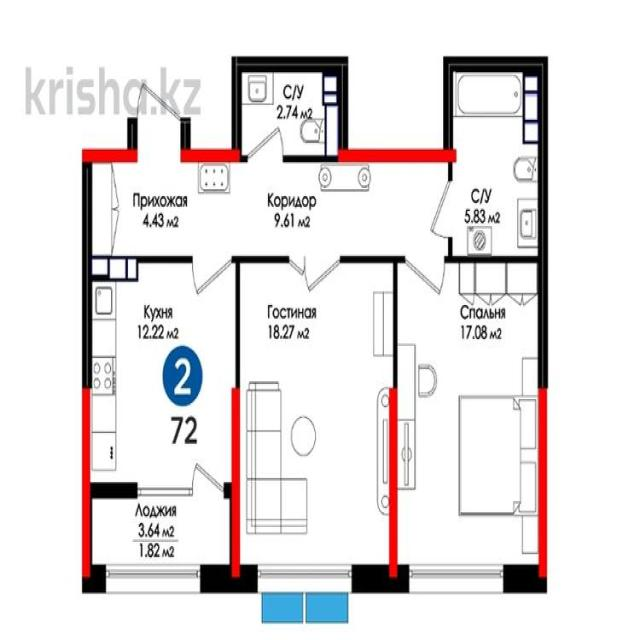balcony: (86, 492, 234, 578)
bathroom: (448, 63, 542, 256), (238, 63, 343, 156)
hallway: (240, 156, 445, 252), (90, 158, 236, 262)
kitchen: (85, 256, 235, 492)
living_room: (236, 260, 394, 570), (399, 259, 541, 574)
